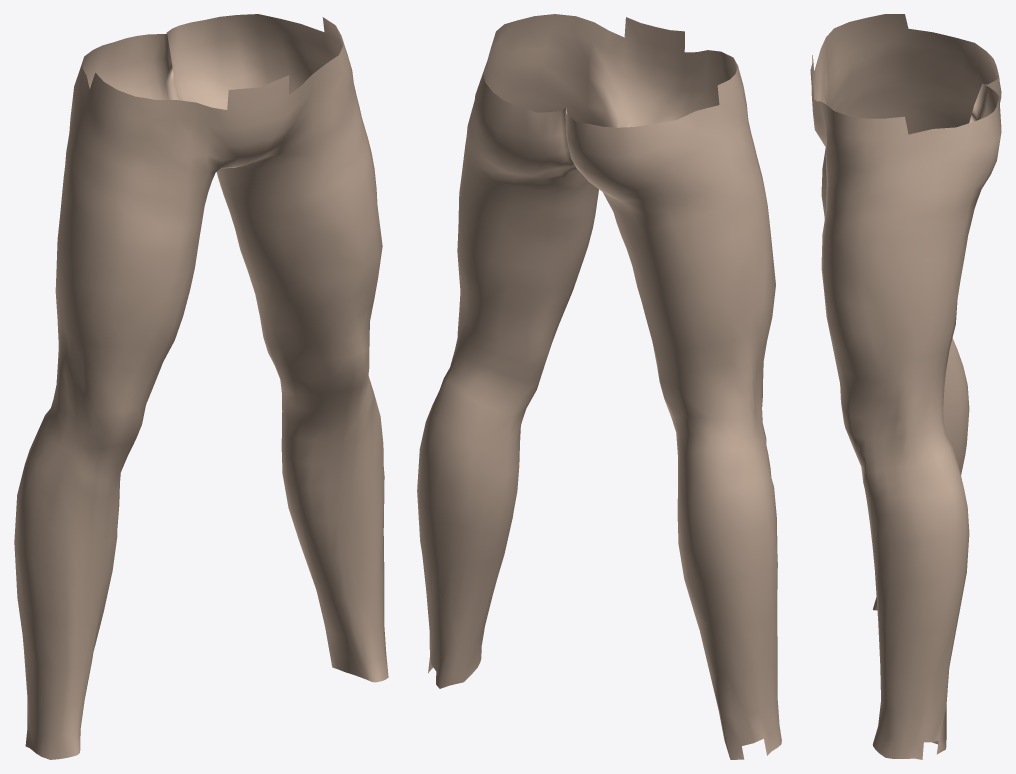
Rendered from male_jeans_template.glb.
3 views of the same model, side by side, from view 1: azimuth 30°, elevation 25°; view 2: azimuth 150°, elevation 25°; view 3: azimuth 270°, elevation 25° (orthographic). The views are drawn at different scales.
Parts seen in each view (by area): view 1: Male_Jeans_Template; view 2: Male_Jeans_Template; view 3: Male_Jeans_Template.
Boxes of the visible parts, left/top/right/bottom form: Male_Jeans_Template: left=14, top=14, right=388, bottom=759; Male_Jeans_Template: left=417, top=14, right=781, bottom=759; Male_Jeans_Template: left=810, top=14, right=1001, bottom=759.
Size of the model in its own units: 45.97 by 82.17 by 23.03.
